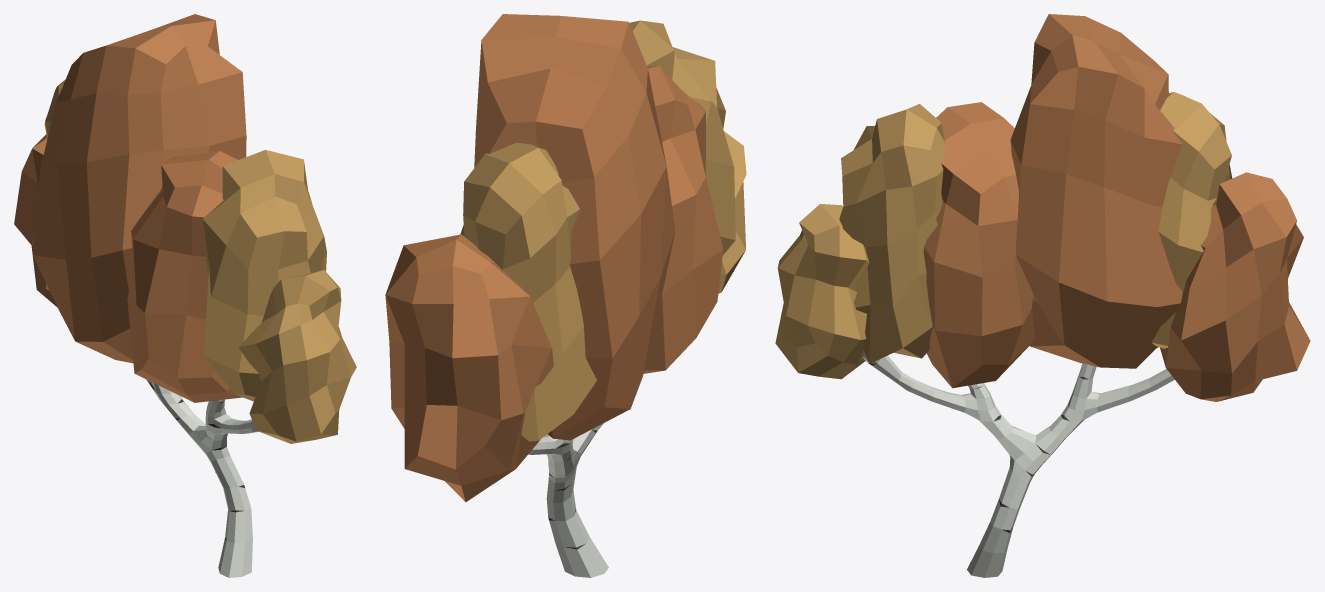
The model's file is birchtree_autumn_4.glb.
3 renders of one model, left to right at view 1: azimuth 30°, elevation 25°; view 2: azimuth 150°, elevation 25°; view 3: azimuth 270°, elevation 25°, orthographic. The views are drawn at different scales.
Parts seen in each view (by area): view 1: BirchTree_Autumn_4; view 2: BirchTree_Autumn_4; view 3: BirchTree_Autumn_4.
Boxes of the visible parts, x1,y1,x2,y2 form: BirchTree_Autumn_4: [14, 14, 356, 577]; BirchTree_Autumn_4: [385, 14, 746, 577]; BirchTree_Autumn_4: [775, 14, 1310, 577].
Bounding box in the file's own units: 2.88 × 8.9 × 8.22.
